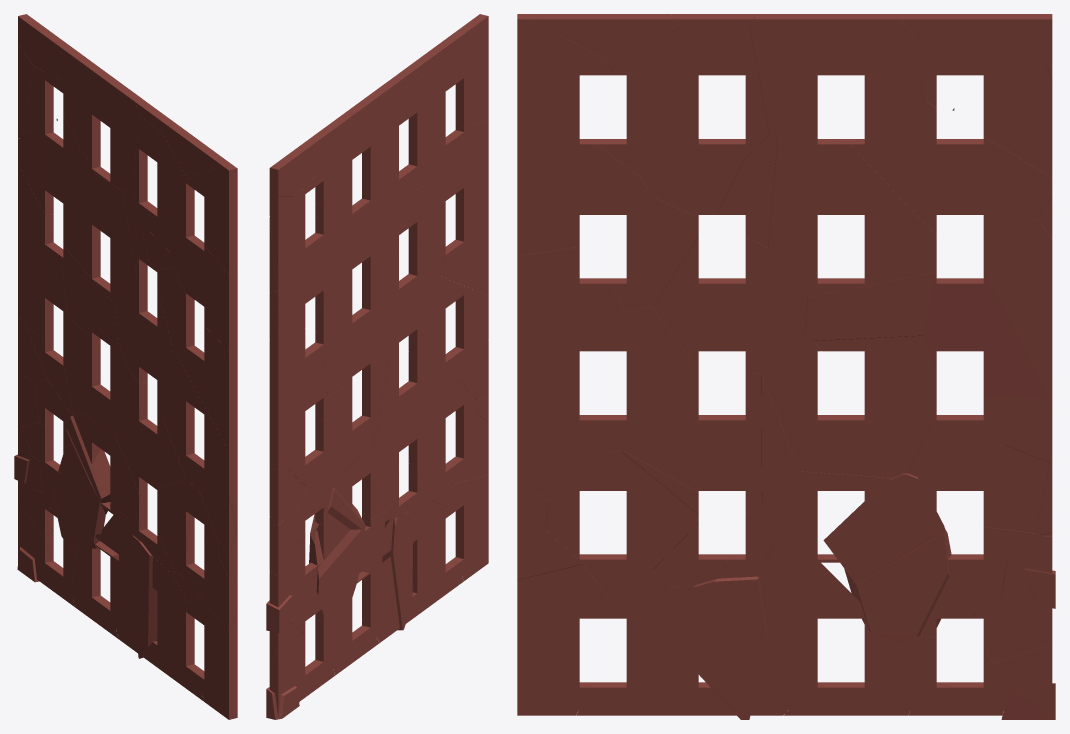
Rendered from wall01_Cx.fbx.
The picture shows the model from 3 angles, left to right: view 1: azimuth 30°, elevation 25°; view 2: azimuth 150°, elevation 25°; view 3: azimuth 270°, elevation 25°; orthographic projection. The views are drawn at different scales.
Visible parts, largest first — view 1: wall01_C.004_cell.014, wall01_C.004_cell.011, wall01_C.004_cell.008, wall01_C.004_cell.053, wall01_C.004_cell.048, wall01_C.004_cell.016, wall01_C.004_cell.015, wall01_C.004_cell.044, wall01_C.004_cell.055, wall01_C.004_cell.019, wall01_C.004_cell.021, wall01_C.004_cell.026 (+45 smaller); view 2: wall01_C.004_cell.014, wall01_C.004_cell.011, wall01_C.004_cell.008, wall01_C.004_cell.053, wall01_C.004_cell.048, wall01_C.004_cell.016, wall01_C.004_cell.038, wall01_C.004_cell.015, wall01_C.004_cell.044, wall01_C.004_cell.055, wall01_C.004_cell.021, wall01_C.004_cell.026 (+42 smaller); view 3: wall01_C.004_cell.014, wall01_C.004_cell.011, wall01_C.004_cell.008, wall01_C.004_cell.053, wall01_C.004_cell.016, wall01_C.004_cell.048, wall01_C.004_cell.015, wall01_C.004_cell.055, wall01_C.004_cell.005, wall01_C.004_cell.022, wall01_C.004_cell.042, wall01_C.004_cell.044 (+44 smaller).
Boxes of the visible parts, x1,y1,x2,y2 form: wall01_C.004_cell.014: (63,57,143,191); wall01_C.004_cell.011: (63,171,135,305); wall01_C.004_cell.008: (132,116,204,259); wall01_C.004_cell.053: (18,116,105,216); wall01_C.004_cell.048: (157,354,226,490); wall01_C.004_cell.016: (116,271,174,389); wall01_C.004_cell.015: (174,244,237,354); wall01_C.004_cell.044: (181,326,237,447); wall01_C.004_cell.055: (187,590,237,719); wall01_C.004_cell.019: (187,164,237,274); wall01_C.004_cell.021: (53,455,105,553); wall01_C.004_cell.026: (61,246,117,347); wall01_C.004_cell.014: (323,82,399,214); wall01_C.004_cell.011: (315,191,395,332); wall01_C.004_cell.008: (392,76,455,195); wall01_C.004_cell.053: (269,202,354,327); wall01_C.004_cell.048: (408,276,485,384); wall01_C.004_cell.016: (376,237,434,359); wall01_C.004_cell.038: (269,318,306,469); wall01_C.004_cell.015: (433,120,488,210); wall01_C.004_cell.044: (441,196,488,294); wall01_C.004_cell.055: (447,475,488,581); wall01_C.004_cell.021: (309,529,364,621); wall01_C.004_cell.026: (315,315,377,396); wall01_C.004_cell.014: (749,14,927,143); wall01_C.004_cell.011: (768,140,936,296); wall01_C.004_cell.008: (597,24,768,176); wall01_C.004_cell.053: (850,102,1052,248); wall01_C.004_cell.016: (653,237,807,373); wall01_C.004_cell.048: (529,307,698,452); wall01_C.004_cell.015: (517,132,652,255); wall01_C.004_cell.055: (517,564,622,715); wall01_C.004_cell.005: (624,372,761,514); wall01_C.004_cell.022: (761,333,902,477); wall01_C.004_cell.042: (545,451,698,569); wall01_C.004_cell.044: (517,247,626,367).
Bounding box in the file's own units: 30.32 × 1232 × 859.
